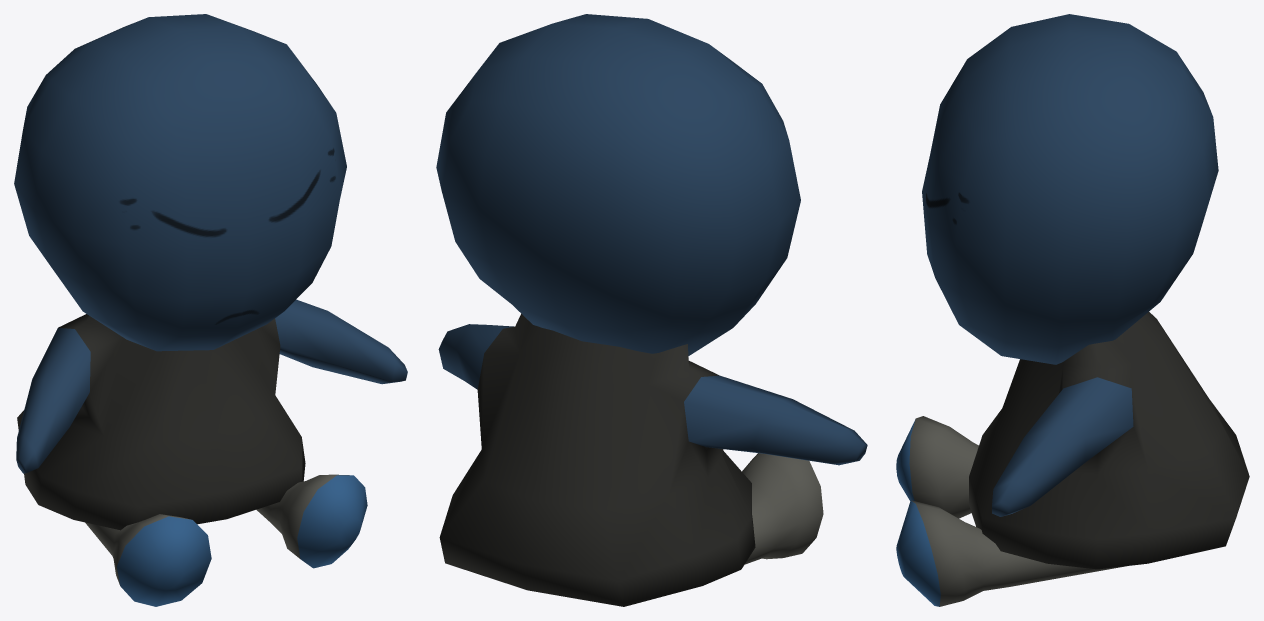
File: Plushie.glb
The picture shows the model from 3 angles, left to right: view 1: azimuth 30°, elevation 25°; view 2: azimuth 150°, elevation 25°; view 3: azimuth 270°, elevation 25°; orthographic projection. The views are drawn at different scales.
Parts seen in each view (by area): view 1: Body; view 2: Body; view 3: Body.
Boxes of the visible parts, box(x1,y1,x2,y2) form: Body: box(14, 14, 407, 606); Body: box(436, 14, 867, 606); Body: box(896, 14, 1249, 606).
Bounding box in the file's own units: 3.3 × 4.16 × 2.52.
Materials: 1 (1 with a texture image).
